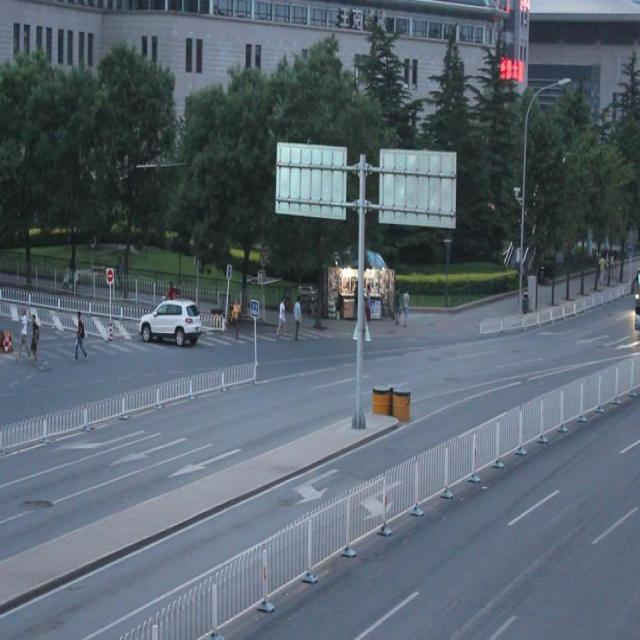car: (140, 298, 202, 348)
